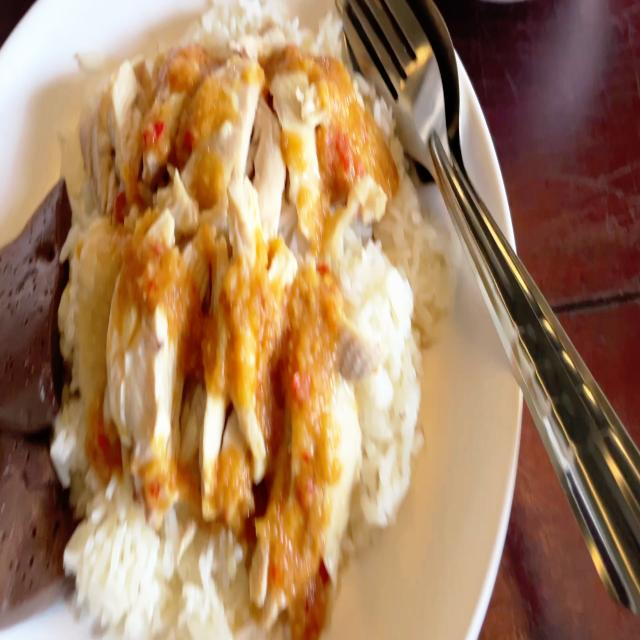boiled_chicken: (91, 65, 347, 537)
boiled_chicken_blood_jelly: (0, 173, 63, 442), (0, 424, 68, 607)
chicken_rice: (4, 1, 448, 640)
